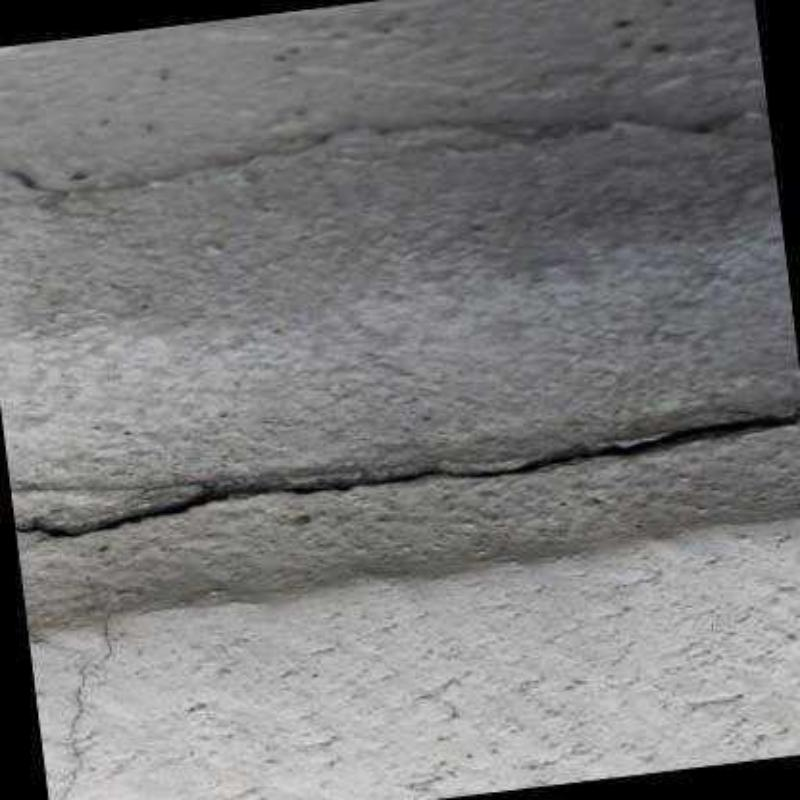crack: (11, 409, 798, 541), (60, 596, 127, 798)
